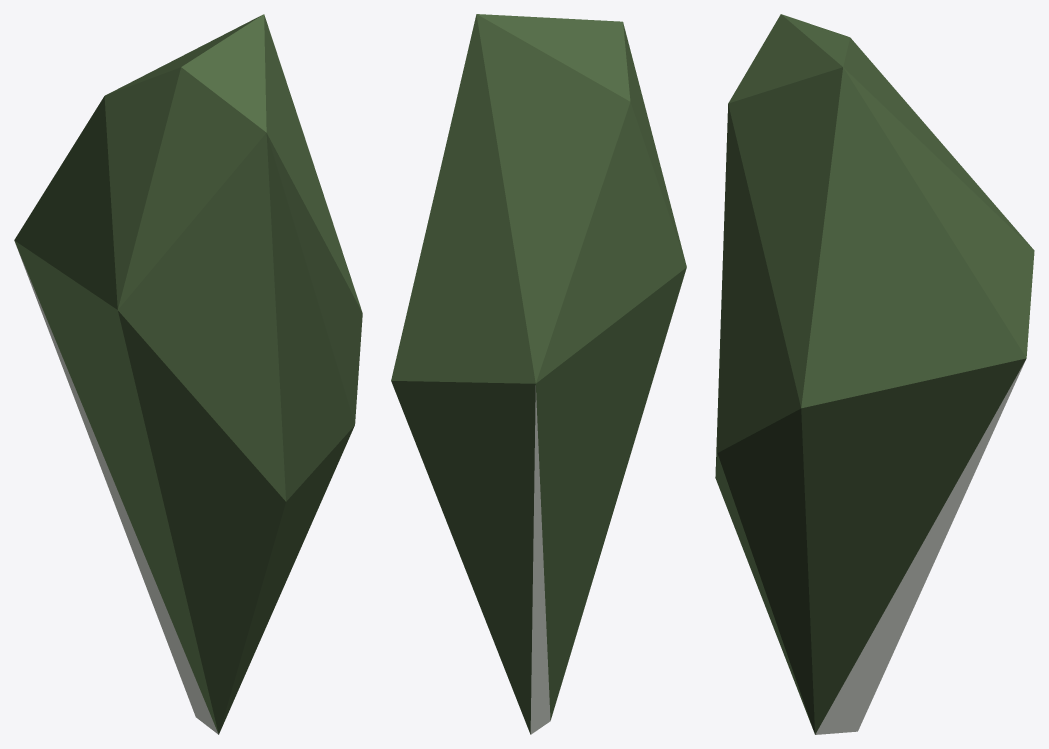
The model's file is BirchTree_3.lod4.glb.
3 views of the same model, side by side, from view 1: azimuth 30°, elevation 25°; view 2: azimuth 150°, elevation 25°; view 3: azimuth 270°, elevation 25° (orthographic).
Visible parts, largest first — view 1: BirchTree_3; view 2: BirchTree_3; view 3: BirchTree_3.
Part boxes in pixels (left/top/right/bottom): BirchTree_3: left=14, top=14, right=362, bottom=734; BirchTree_3: left=391, top=14, right=686, bottom=734; BirchTree_3: left=715, top=14, right=1034, bottom=734.
Size of the model in its own units: 1.57 by 4.1 by 1.7.
